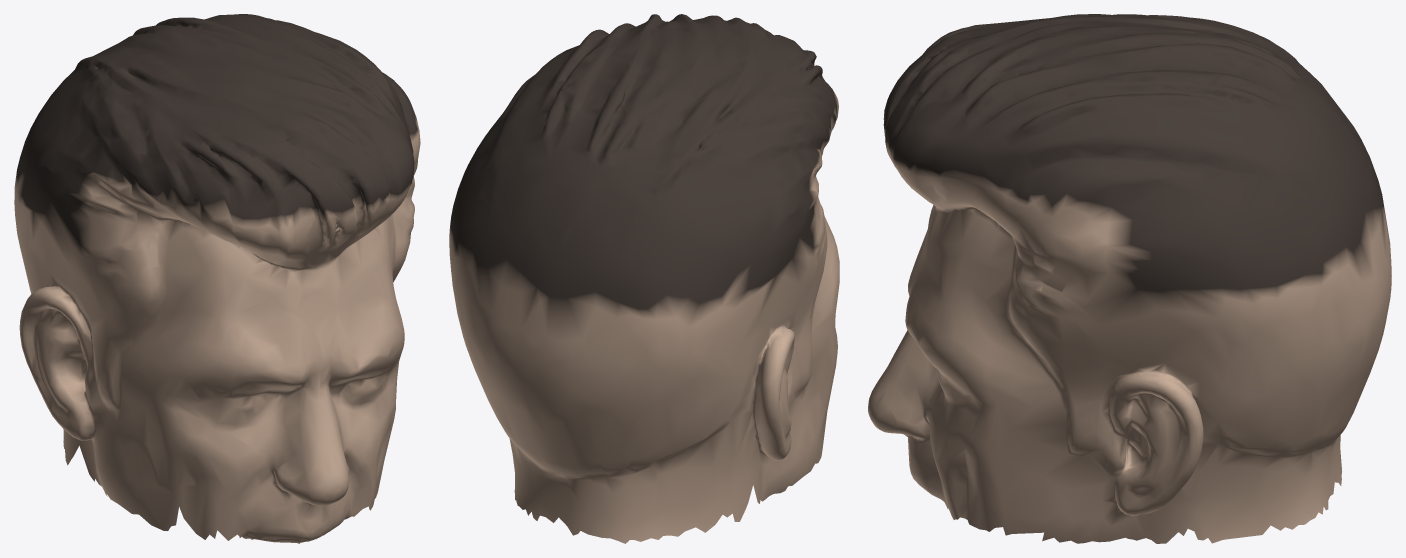
The model's file is salman.glb.
The picture shows the model from 3 angles, left to right: view 1: azimuth 30°, elevation 25°; view 2: azimuth 150°, elevation 25°; view 3: azimuth 270°, elevation 25°; orthographic projection. The views are drawn at different scales.
Visible parts, largest first — view 1: salman; view 2: salman; view 3: salman.
Part boxes in pixels (box(x1,y1,x2,y2)): salman: box(14, 14, 420, 543); salman: box(449, 14, 839, 543); salman: box(868, 14, 1391, 543).
Size of the model in its own units: 0.2036 by 0.2431 by 0.2543.
